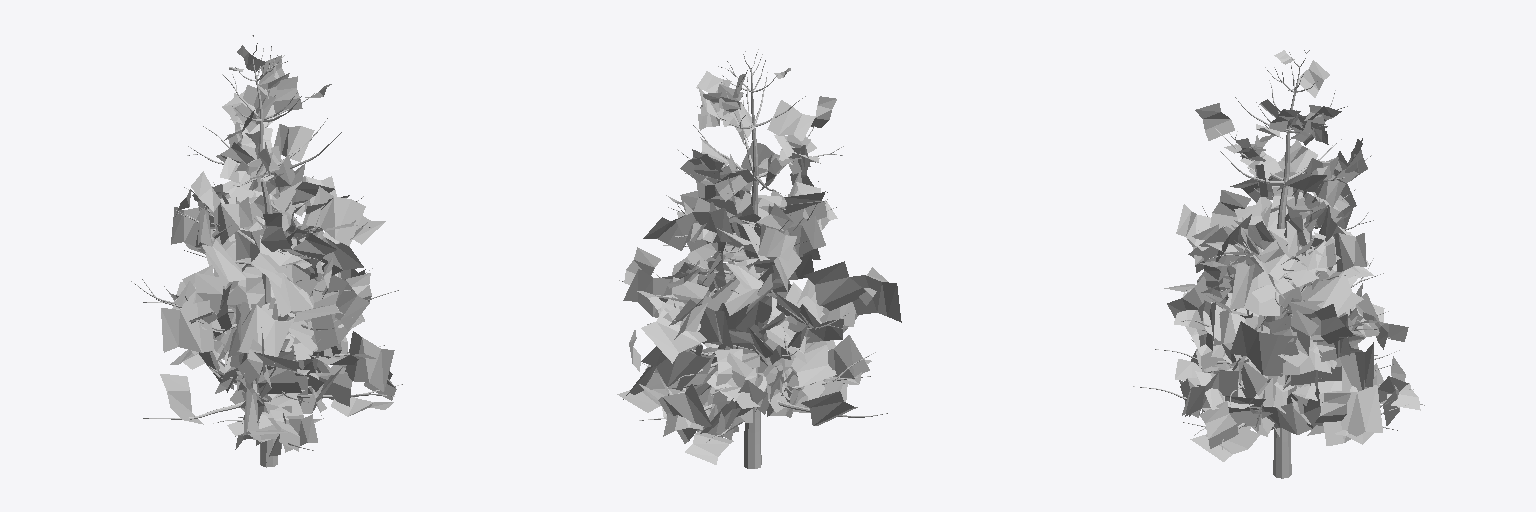
File: Tree1.obj
The picture shows the model from 3 angles: view 1: azimuth 30°, elevation 25°; view 2: azimuth 150°, elevation 25°; view 3: azimuth 270°, elevation 25°; orthographic projection.
Parts seen in each view (by area): view 1: tree; view 2: tree; view 3: tree.
Boxes of the visible parts, box(x1,y1,x2,y2) form: tree: box(131, 35, 402, 467); tree: box(617, 49, 901, 468); tree: box(1133, 50, 1424, 478).
Size of the model in its own units: 24.3 by 41.33 by 25.92.